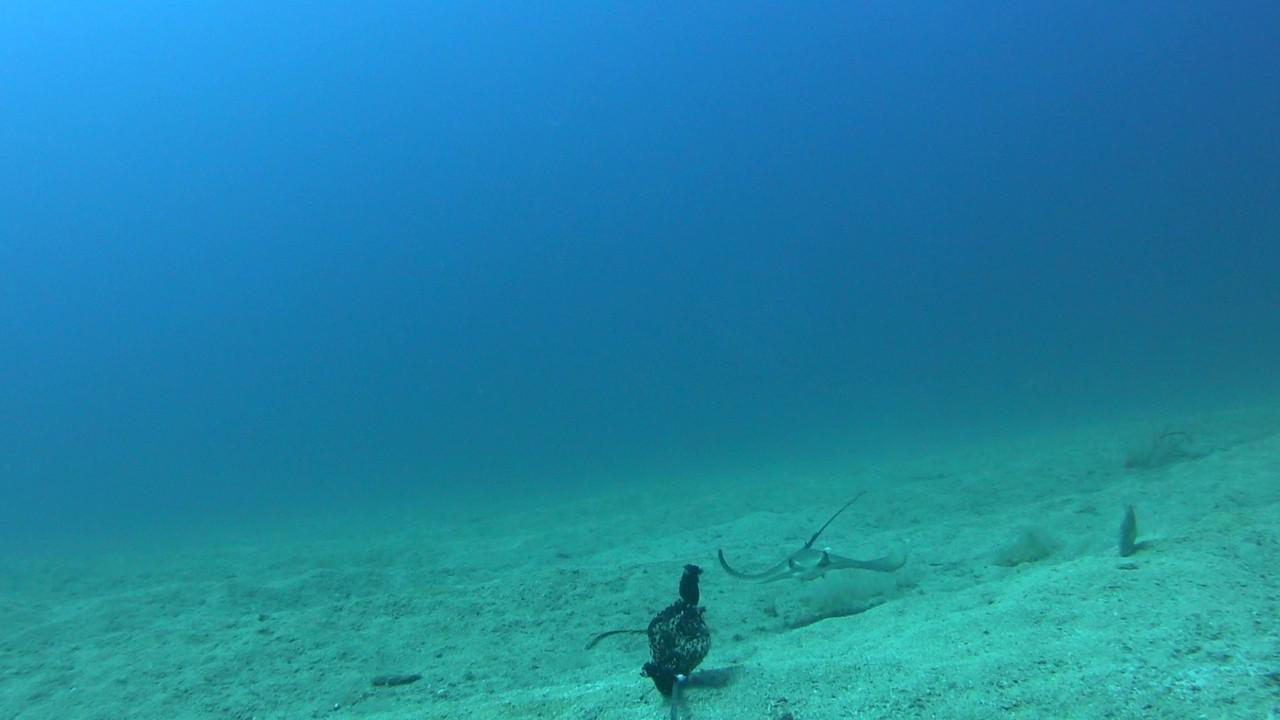myliobatis: (719, 474, 916, 594)
raor: (1114, 501, 1138, 557)
